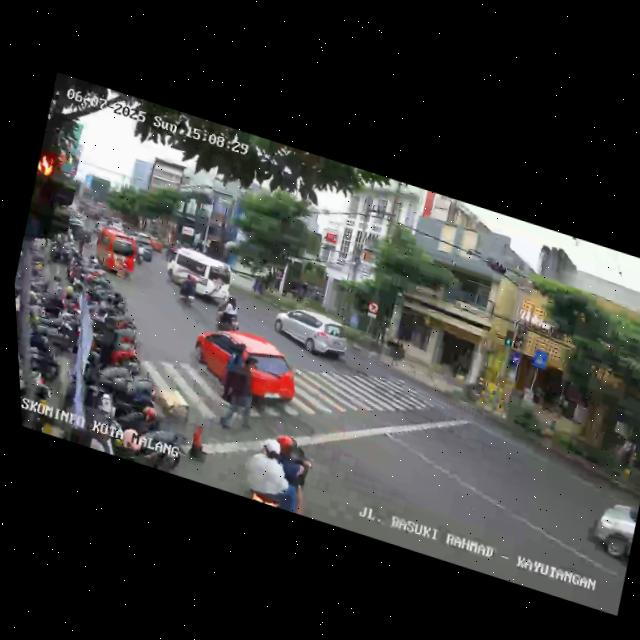car: (183, 316, 308, 419), (266, 298, 355, 368), (576, 489, 640, 574), (161, 242, 235, 304), (84, 223, 142, 283)
motorcycle: (234, 432, 312, 515), (210, 291, 246, 335), (173, 270, 201, 308)
person: (212, 346, 270, 440), (217, 338, 252, 408)
